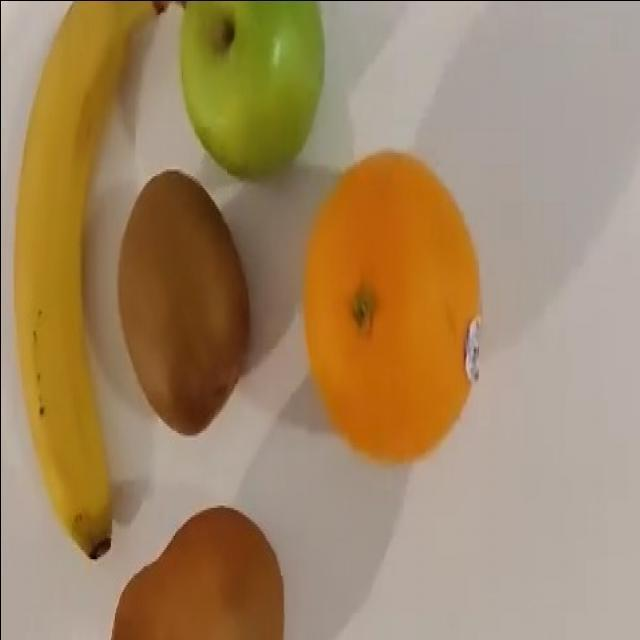Apple: (178, 0, 325, 179)
Banana: (3, 0, 165, 588)
Orange: (302, 149, 482, 464)
